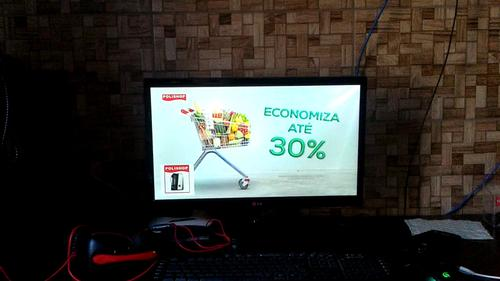Polishop #1: (160, 164, 195, 196)
